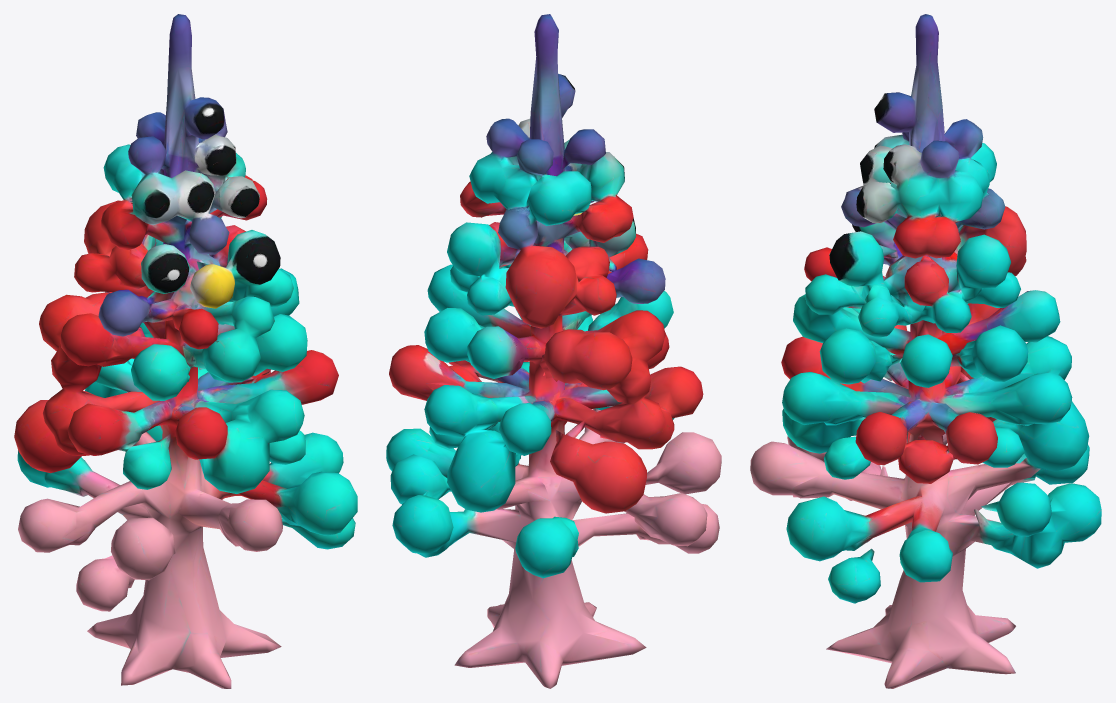
The model's file is clay-pine.glb.
3 renders of one model, left to right at view 1: azimuth 30°, elevation 25°; view 2: azimuth 150°, elevation 25°; view 3: azimuth 270°, elevation 25°, orthographic.
Bounding box in the file's own units: 0.9899 × 1.91 × 0.9518.
1 material, 1 textured.
